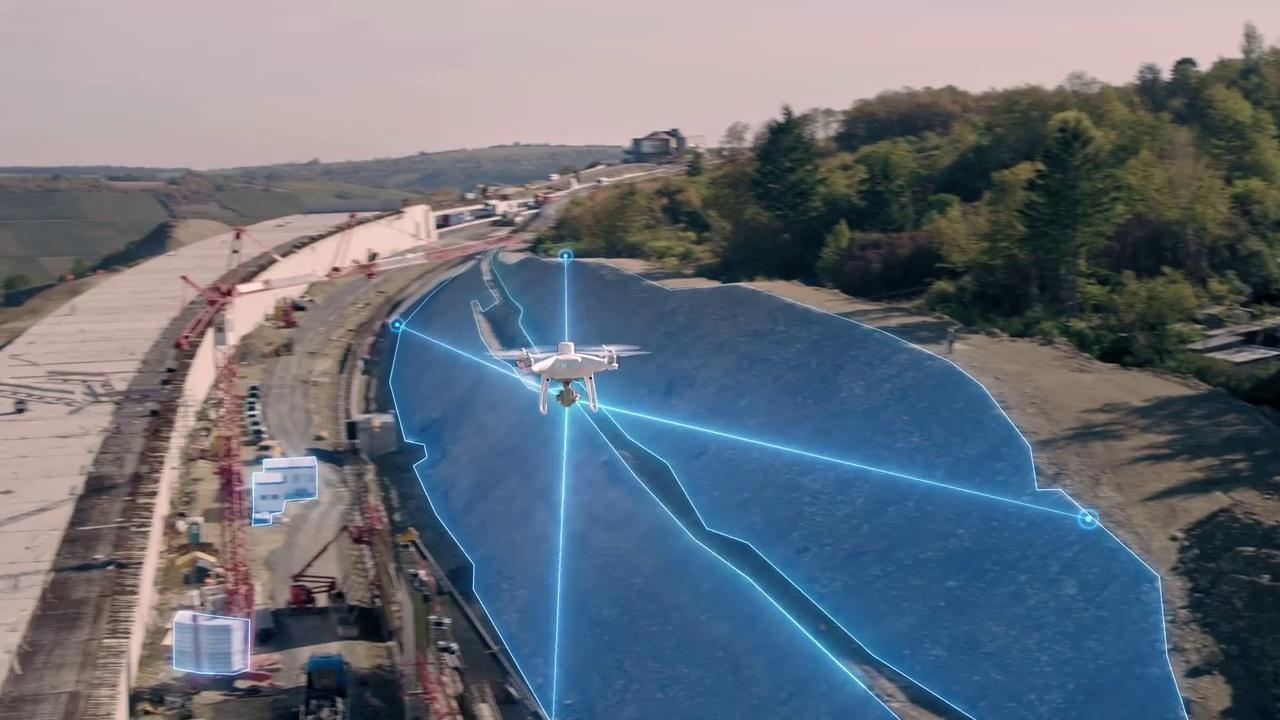drone: (484, 329, 655, 416)
